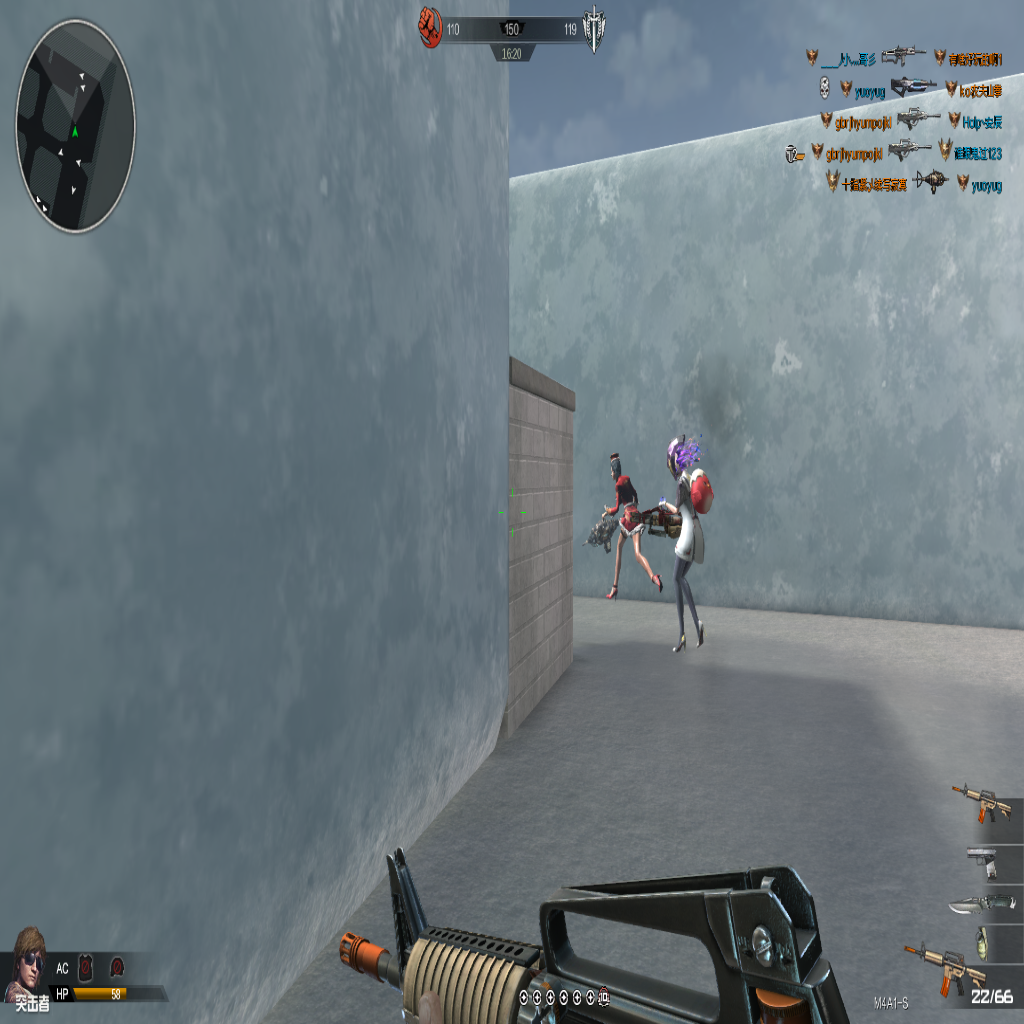tt: (654, 447, 708, 655), (601, 454, 663, 598)
